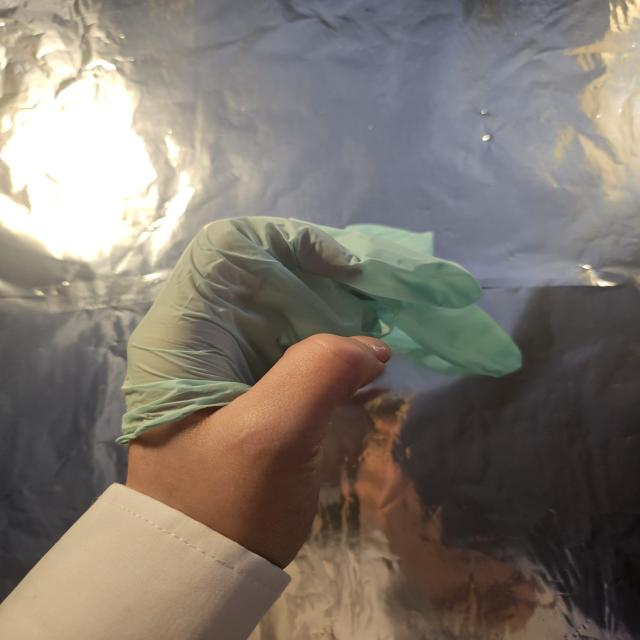glove_partial: (117, 213, 526, 533)
